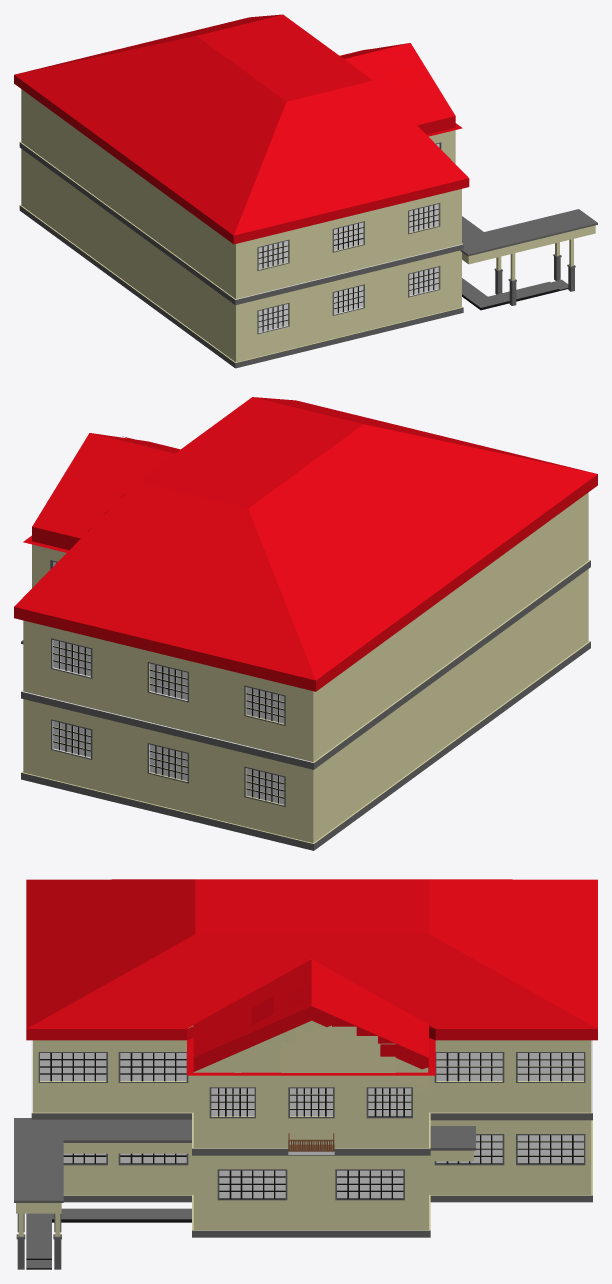
File: ERS.fbx
The picture shows the model from 3 angles, top to bottom: view 1: azimuth 30°, elevation 25°; view 2: azimuth 150°, elevation 25°; view 3: azimuth 270°, elevation 25°; orthographic projection. The views are drawn at different scales.
Visible parts, largest first — view 1: Plane; view 2: Plane; view 3: Plane.
Boxes of the visible parts, <box> form: Plane: <box>14,14,597,368</box>; Plane: <box>14,397,597,850</box>; Plane: <box>14,879,597,1269</box>.
Bounding box in the file's own units: 4251 × 2180 × 4602.
